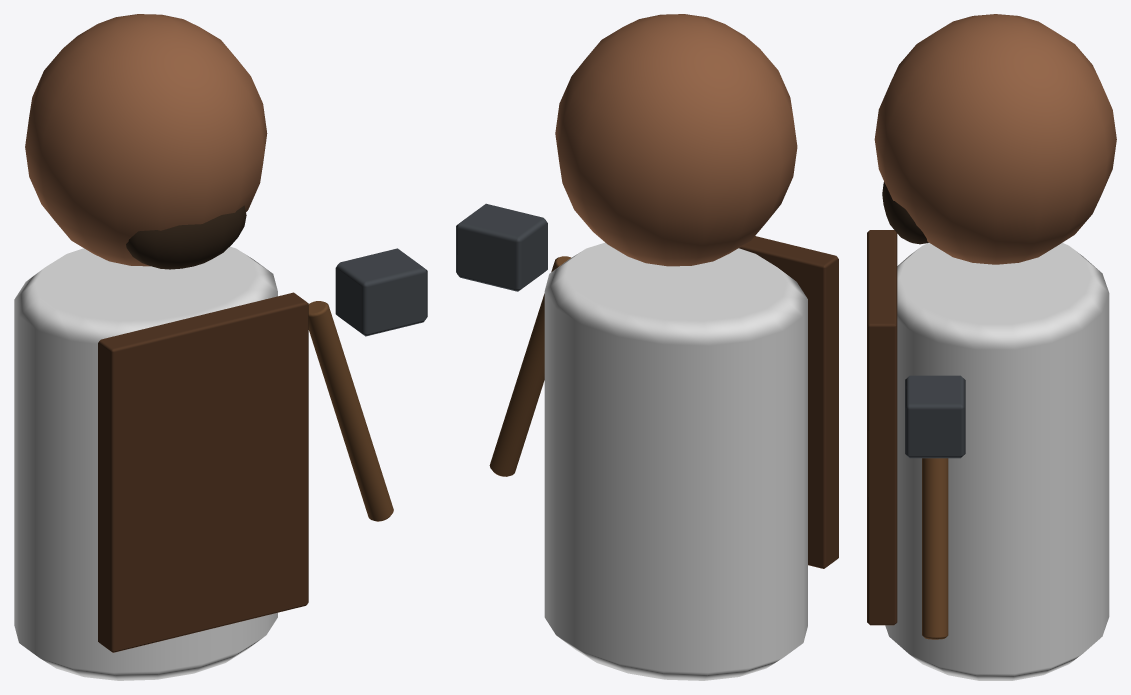
The model's file is smith.d1151dff.glb.
3 views of the same model, side by side, from view 1: azimuth 30°, elevation 25°; view 2: azimuth 150°, elevation 25°; view 3: azimuth 270°, elevation 25° (orthographic).
Parts seen in each view (by area): view 1: body, accent; view 2: accent, body; view 3: accent, body.
Boxes of the visible parts, box(x1,y1,x2,y2) form: body: box(25, 14, 427, 652); accent: box(14, 246, 277, 680); accent: box(544, 242, 807, 680); body: box(456, 14, 838, 568); accent: box(885, 242, 1109, 680); body: box(867, 14, 1116, 639).
Size of the model in its own units: 0.5373 by 0.888 by 0.33.
